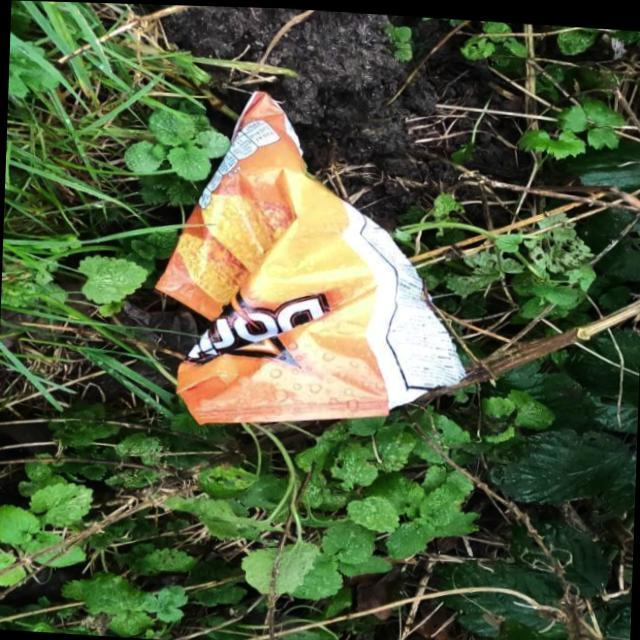Plastic: (148, 81, 476, 440)
